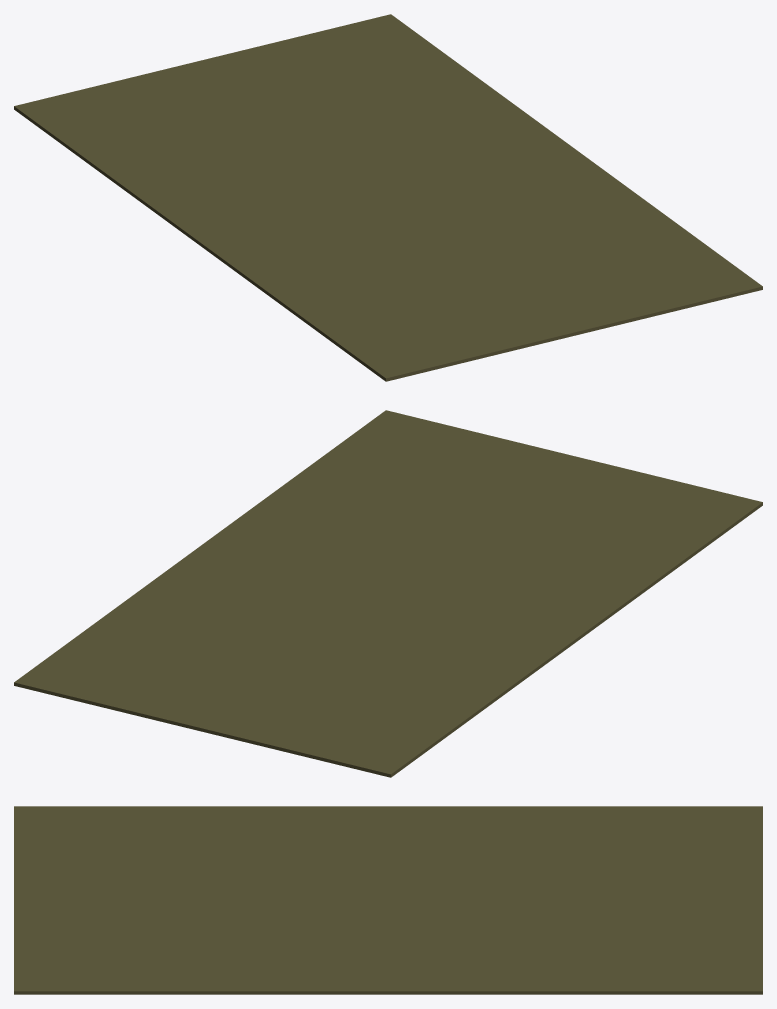
Rendered from Rag.fbx.
The picture shows the model from 3 angles, top to bottom: view 1: azimuth 30°, elevation 25°; view 2: azimuth 150°, elevation 25°; view 3: azimuth 270°, elevation 25°; orthographic projection.
Parts seen in each view (by area): view 1: Rag; view 2: Rag; view 3: Rag.
Part boxes in pixels (<box>): Rag: <box>14,14,762,381</box>; Rag: <box>14,410,762,777</box>; Rag: <box>14,806,762,994</box>.
Bounding box in the file's own units: 200 × 1.71 × 342.
